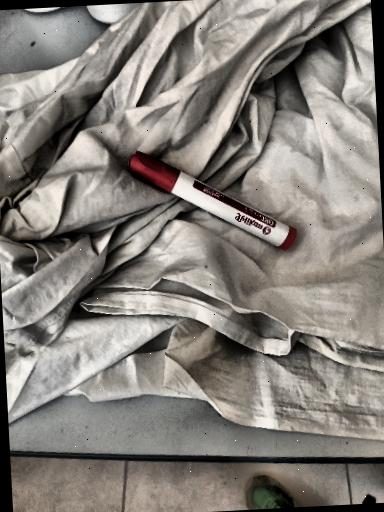marcador rojo: (129, 151, 297, 250)
